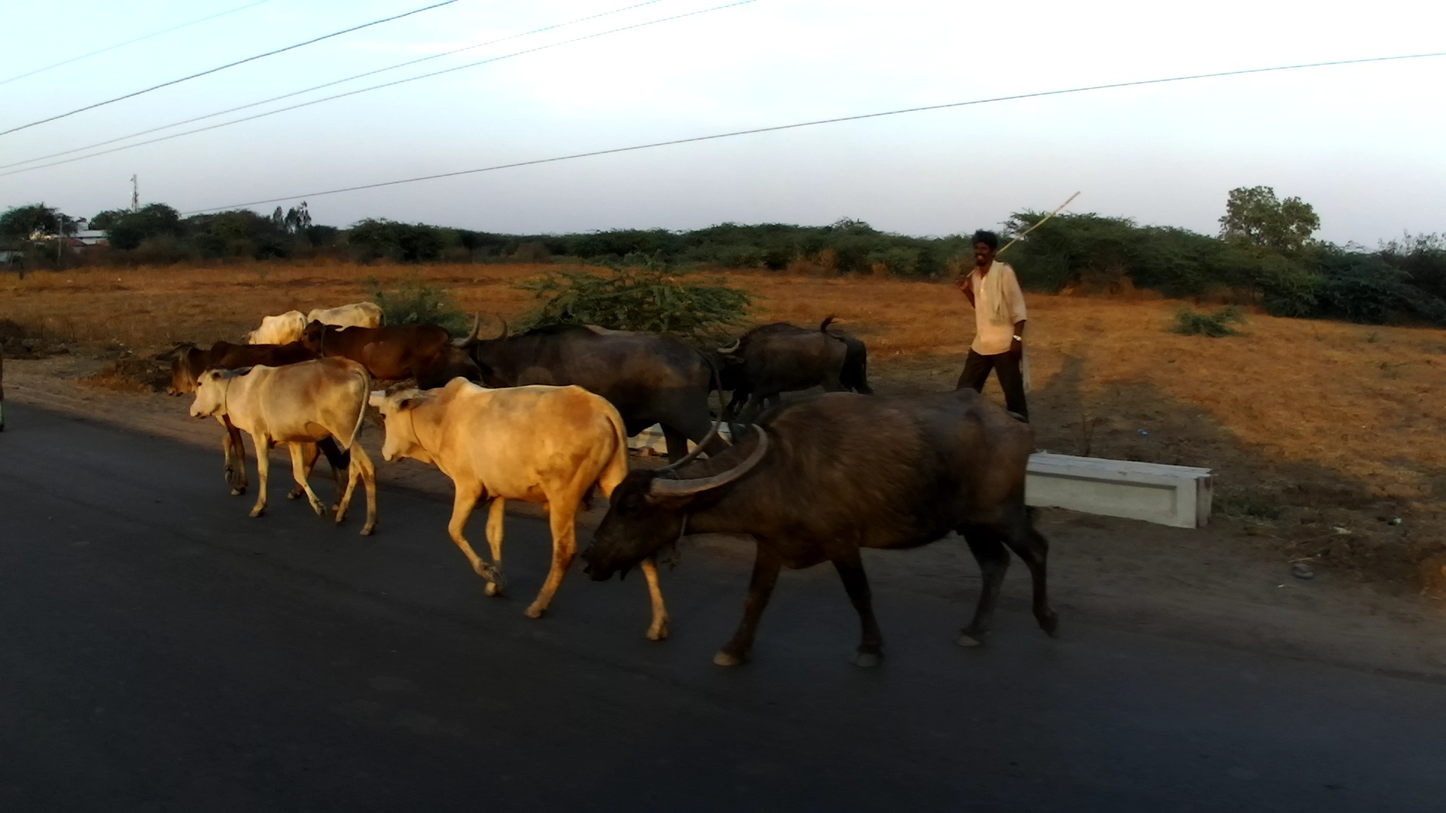animal: (584, 385, 1061, 671), (371, 378, 671, 637), (457, 310, 735, 507), (185, 361, 386, 539), (167, 341, 355, 512), (706, 310, 875, 423), (295, 314, 456, 399), (307, 301, 386, 349), (245, 312, 311, 355)
person: (956, 231, 1030, 432)
